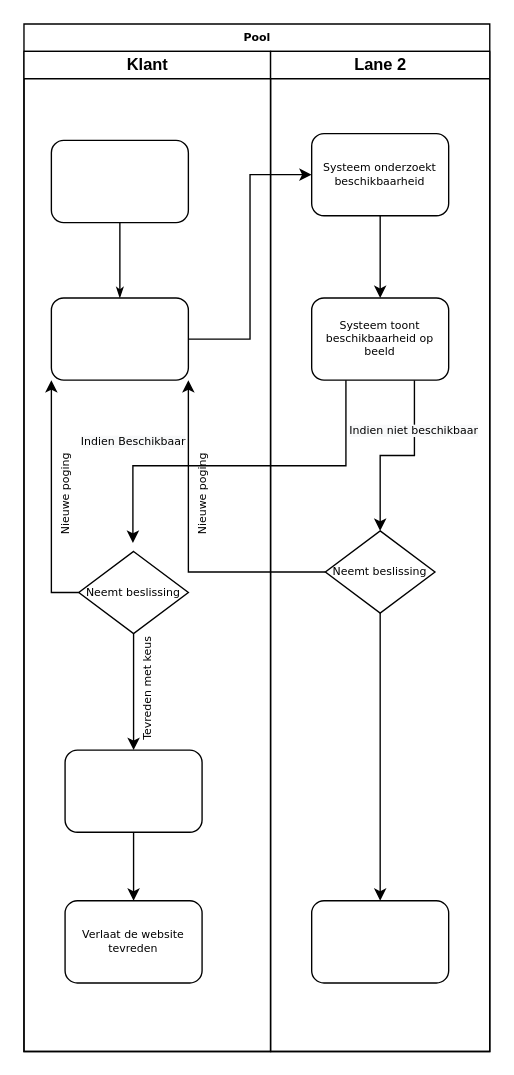
Some shapes in this 514 by 1075 pixel diagram are drawn without their labels. The shapes that lost their labels are listed below. From the top down, each one's centre as x and y in pixels, then its label:
At point 119,181: "Klant komt op website aan".
At point 119,338: "Doet selecties (periode, fiets voorkeur)".
At point 133,790: "Vult gegevens in voor reservering".
At point 379,941: "Verlaat de website ontevreden".
